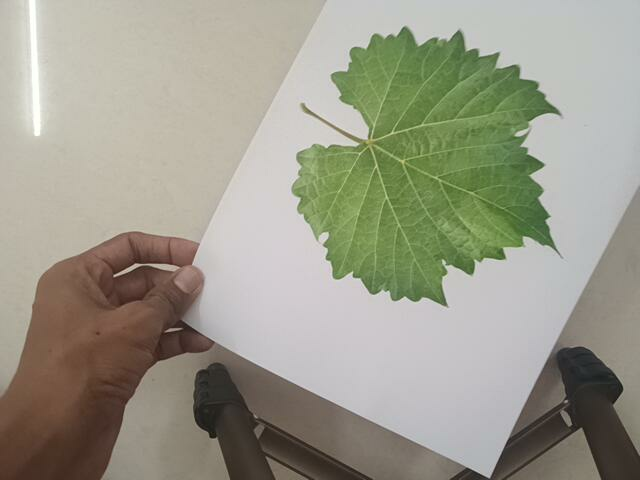Grape_Healthy: (291, 17, 567, 305)
